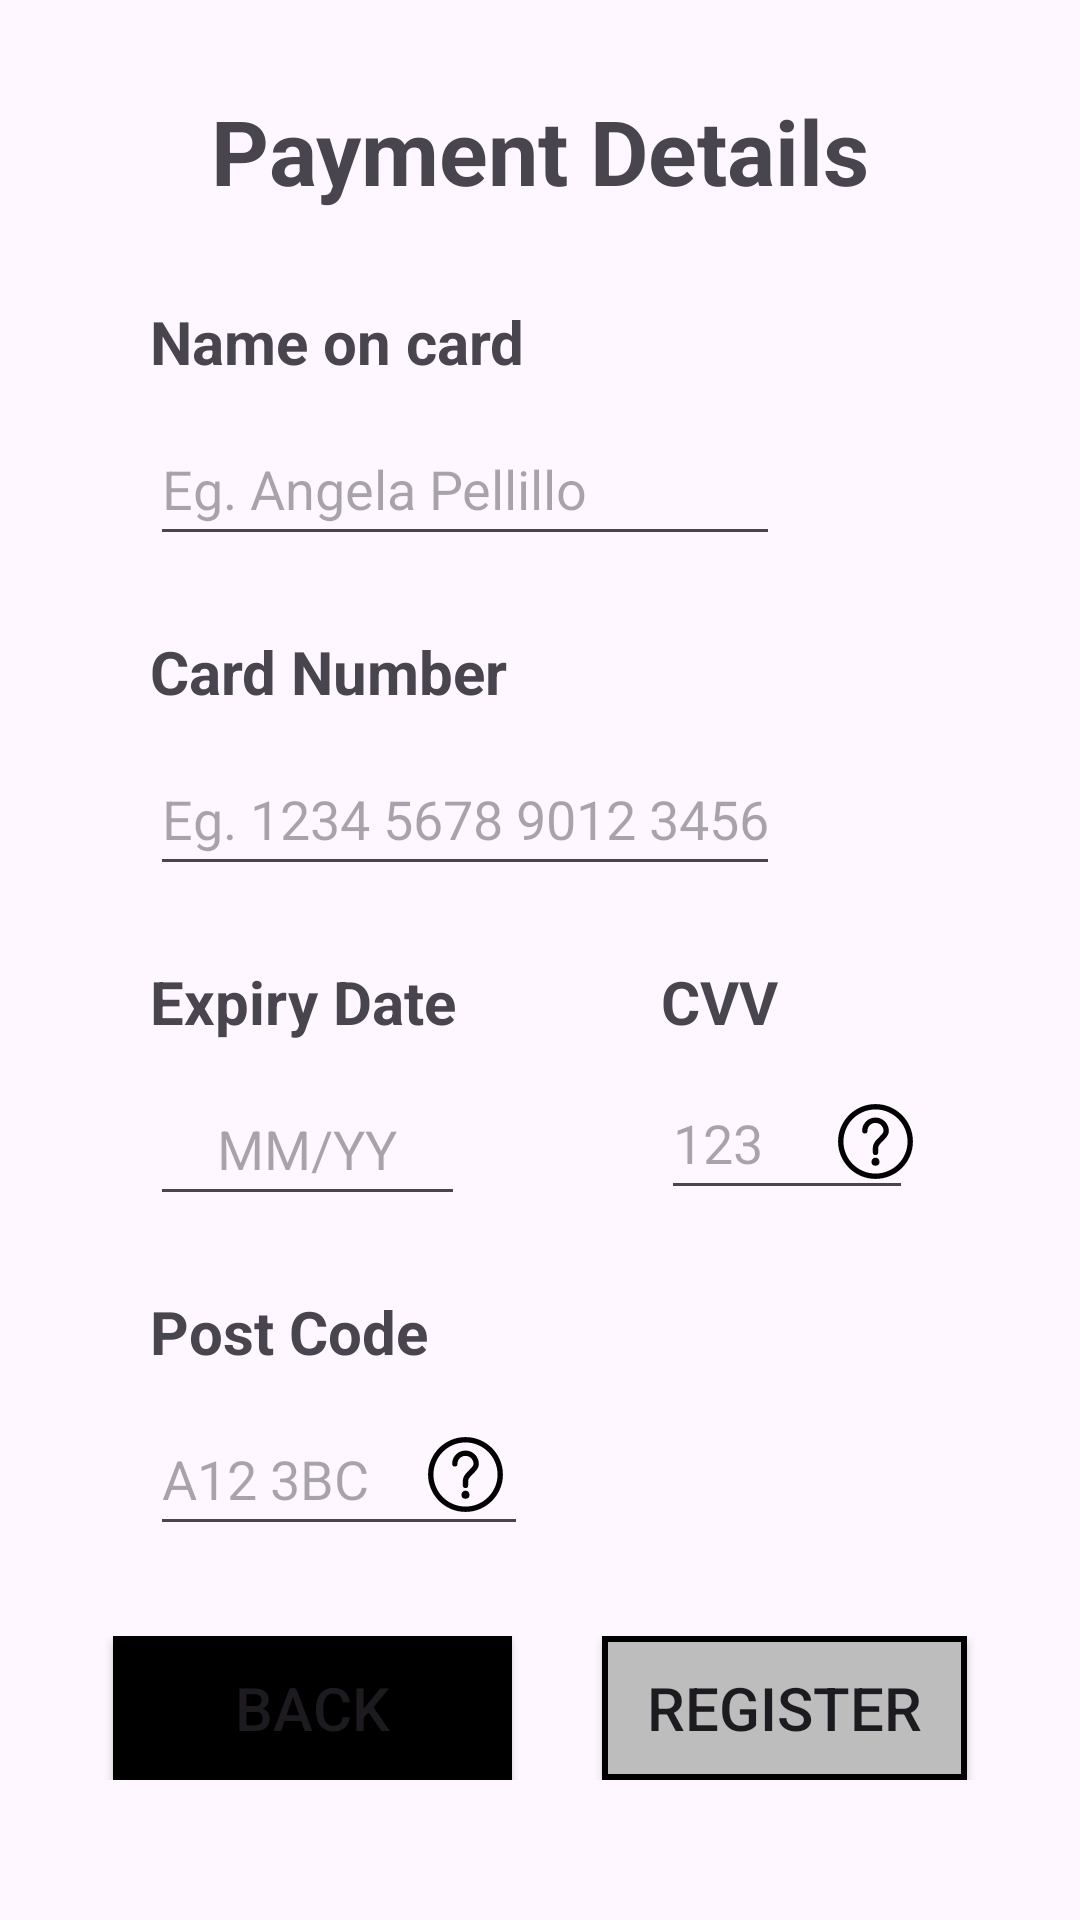

Named icons in this screenshot (1080px x 1920px) and their bounding boxes, Rect(x1, y1, x2, y2):
question mark line: Rect(838, 1104, 913, 1179), Rect(428, 1437, 503, 1512)
